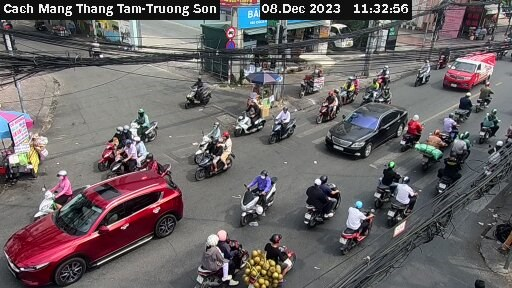car: (2, 163, 192, 284), (323, 96, 411, 156), (443, 52, 499, 96)
motorbike: (179, 231, 253, 275), (232, 172, 290, 219), (298, 178, 344, 230), (337, 206, 379, 255), (233, 105, 278, 146), (387, 183, 425, 229), (197, 144, 243, 179), (118, 108, 165, 141), (267, 109, 306, 148), (30, 178, 72, 214), (433, 153, 462, 201), (415, 130, 448, 170), (189, 126, 234, 155), (365, 169, 402, 204), (395, 116, 425, 155), (112, 143, 148, 174), (313, 90, 347, 122), (184, 128, 227, 153), (185, 79, 222, 108), (447, 132, 478, 165), (474, 110, 503, 144), (452, 88, 478, 125), (96, 130, 120, 165), (440, 109, 463, 145), (413, 58, 440, 88), (335, 77, 364, 103), (475, 81, 496, 113), (370, 64, 397, 87), (375, 85, 397, 107), (358, 82, 378, 105)
